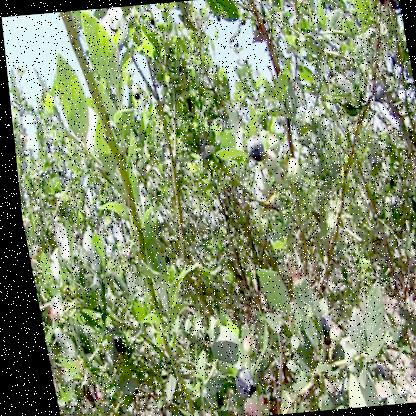intermediate: (234, 336, 252, 358), (320, 322, 337, 344)
mature: (223, 365, 253, 408), (239, 136, 266, 168), (371, 81, 387, 104)
young: (281, 155, 305, 187), (268, 164, 286, 189), (261, 151, 277, 176), (265, 132, 280, 154), (203, 143, 216, 156)
